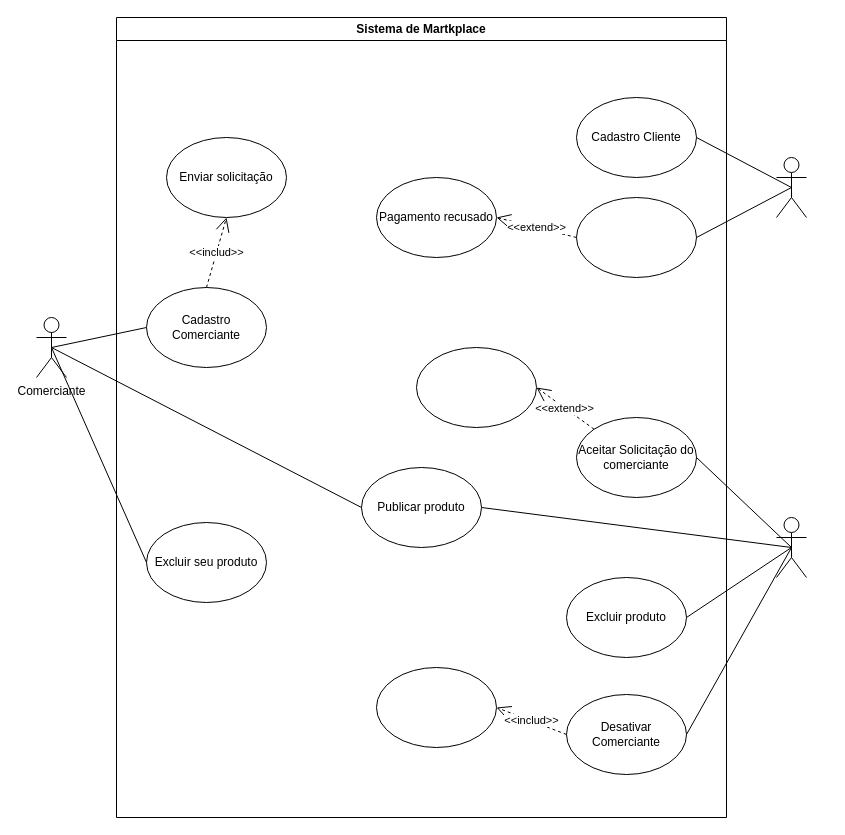
Some shapes in this 845 by 835 pixel diagram are drawn without their labels. The centre of each missing label's shape, as x and y in pixels:
"Administrador" goes at point (791, 547).
"Cliente" goes at point (791, 187).
"Excluir produtos do comerciante desativado" goes at point (436, 707).
"Finalizar pagamento" goes at point (636, 237).
"Negar solicitação do comerciante" goes at point (476, 387).
